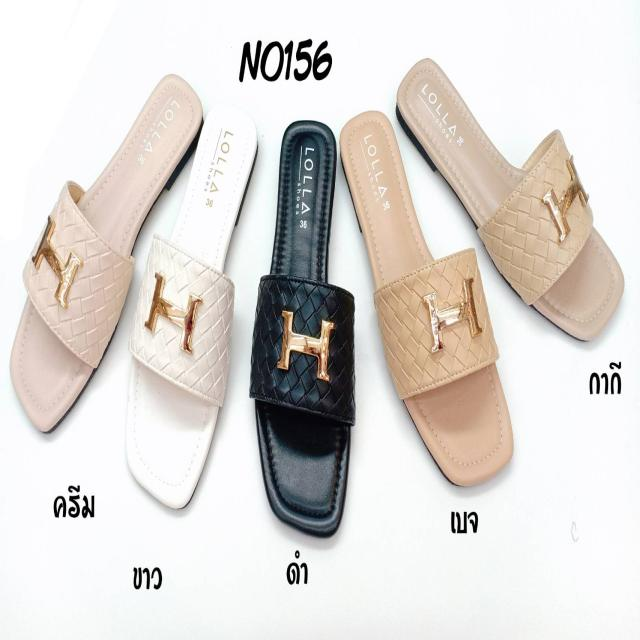bej: (342, 104, 510, 499)
black: (253, 120, 357, 538)
cream: (12, 72, 203, 436)
kakee: (400, 47, 624, 350)
white: (124, 100, 258, 502)
